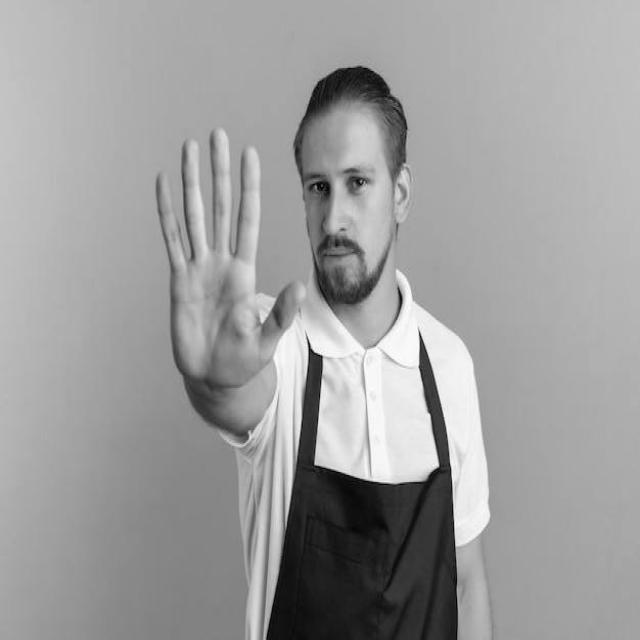stop: (152, 119, 310, 394)
